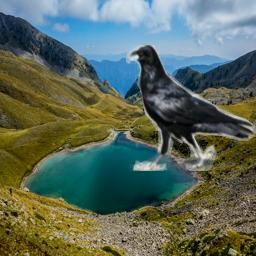Crow: (126, 45, 256, 171)
